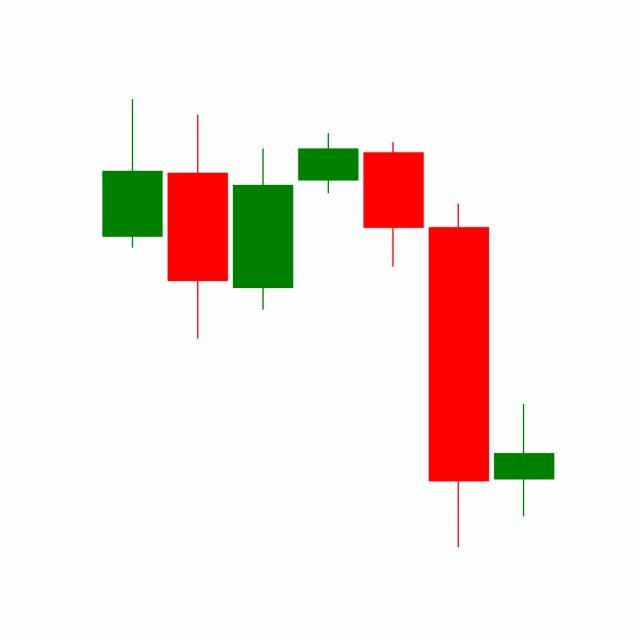Hikkake Pattern: (165, 110, 492, 548)
